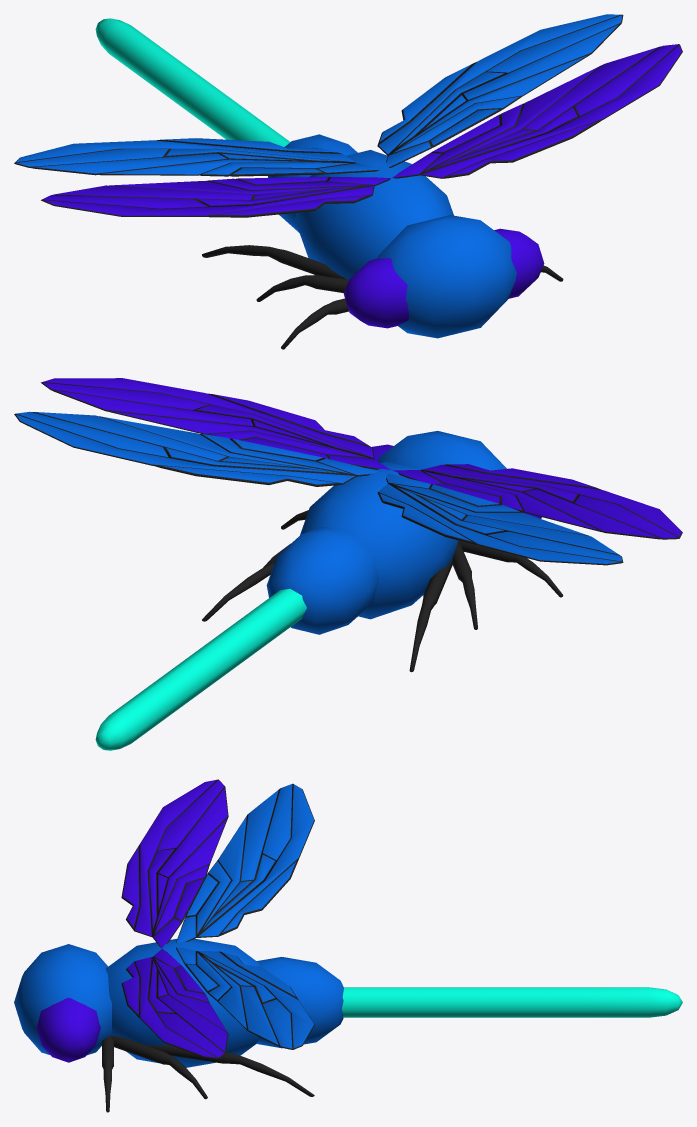
Rendered from NOVELO_DRAGONFLY.obj.
3 views of the same model, one above another, from view 1: azimuth 30°, elevation 25°; view 2: azimuth 150°, elevation 25°; view 3: azimuth 270°, elevation 25° (orthographic). The views are drawn at different scales.
Parts seen in each view (by area): view 1: Symmetry.1; view 2: Symmetry.1; view 3: Symmetry.1.
Part boxes in pixels (box(x1,y1,x2,y2)): Symmetry.1: box(14, 14, 682, 349); Symmetry.1: box(14, 378, 682, 750); Symmetry.1: box(14, 779, 682, 1112).
Size of the model in its own units: 281 by 68.47 by 285.
